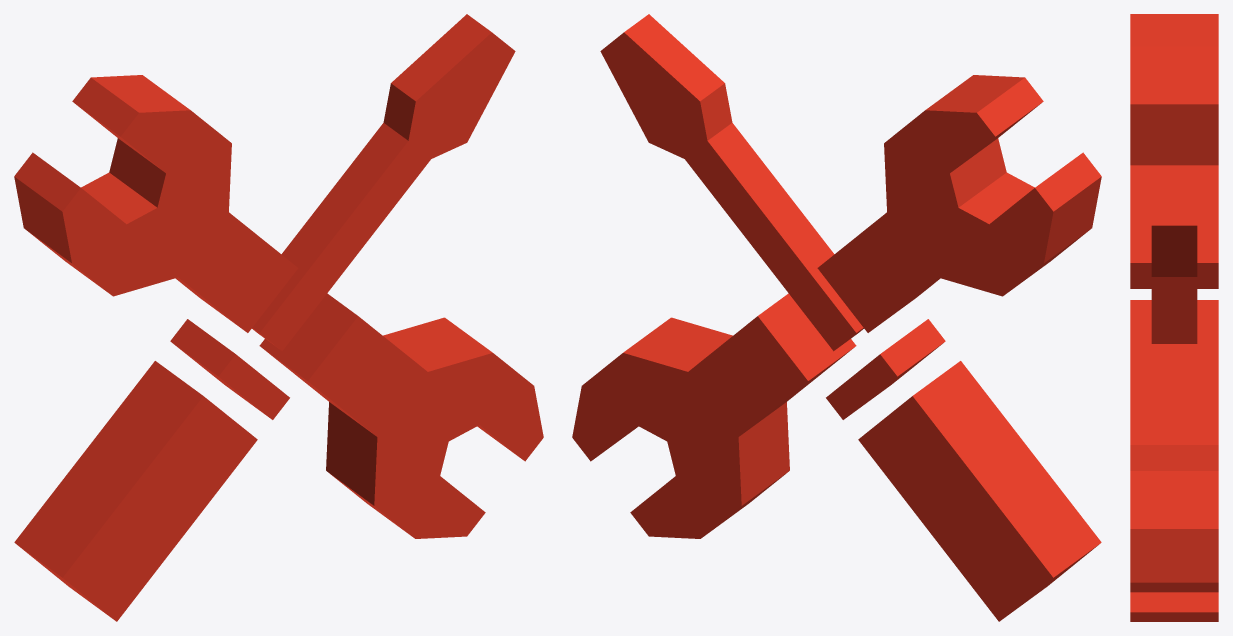
Rendered from Icon_Repair_04.fbx.
The picture shows the model from 3 angles, left to right: view 1: azimuth 30°, elevation 25°; view 2: azimuth 150°, elevation 25°; view 3: azimuth 270°, elevation 25°; orthographic projection. The views are drawn at different scales.
Parts seen in each view (by area): view 1: Icon_Repair_04; view 2: Icon_Repair_04; view 3: Icon_Repair_04.
Part boxes in pixels (bbox=[...]): Icon_Repair_04: bbox=[14, 14, 543, 621]; Icon_Repair_04: bbox=[572, 14, 1101, 621]; Icon_Repair_04: bbox=[1130, 14, 1218, 621].
Bounding box in the file's own units: 69.41 × 69.41 × 12.06.
